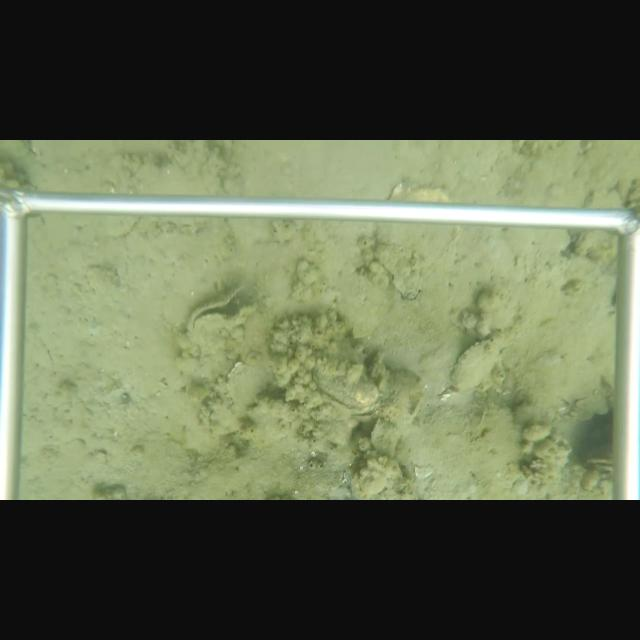Oyster-Closed: (373, 224, 461, 304), (447, 336, 508, 396), (310, 361, 378, 407)
Oyster-Open: (185, 284, 260, 337)
